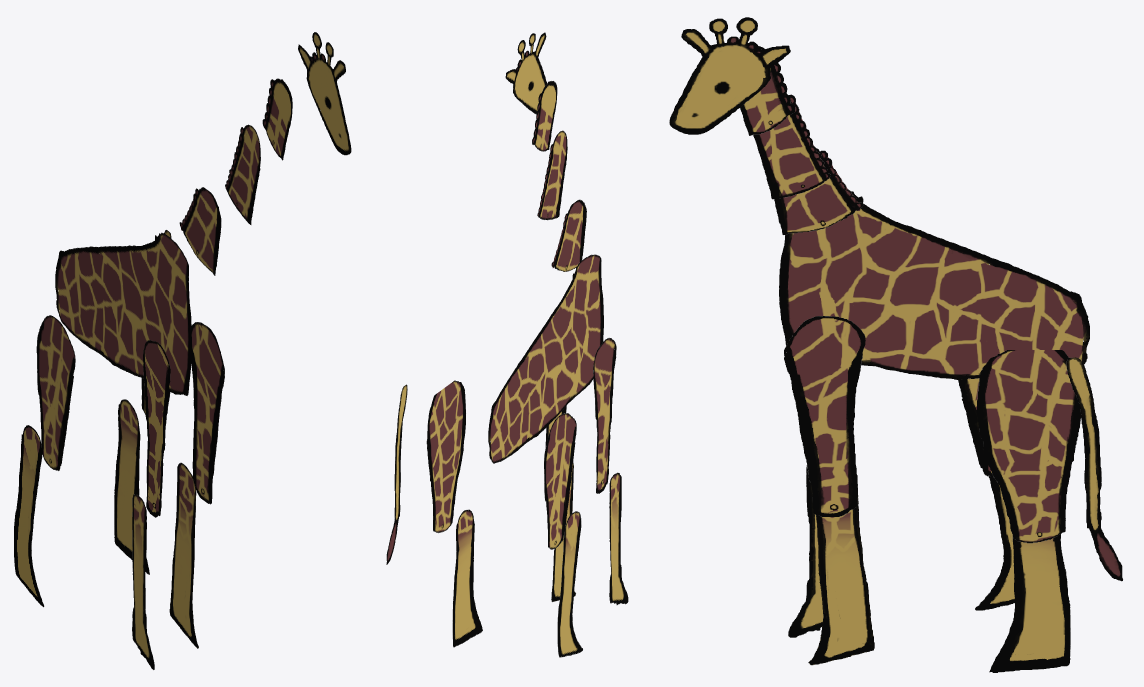
3 renders of one model, left to right at view 1: azimuth 30°, elevation 25°; view 2: azimuth 150°, elevation 25°; view 3: azimuth 270°, elevation 25°, orthographic. The views are drawn at different scales.
Visible parts, largest first — view 1: pPlane5, pPlane9, pPlane8, pPlane11, pPlane6, pPlane13, pPlane12, pPlane1, pPlane10, pPlane4, pPlane3, pPlane2; view 2: pPlane5, pPlane7, pPlane8, pPlane13, pPlane6, pPlane12, pPlane1, pPlane10, pPlane4, pPlane3, pPlane2, pPlane14 (+1 smaller); view 3: pPlane5, pPlane7, pPlane9, pPlane13, pPlane1, pPlane11, pPlane3, pPlane14, pPlane4, pPlane2, pPlane10, pPlane12 (+1 smaller).
Boxes of the visible parts, x1,y1,x2,y2 form: pPlane5: (55, 232, 191, 395); pPlane9: (191, 322, 224, 504); pPlane8: (36, 315, 75, 470); pPlane11: (169, 462, 198, 648); pPlane6: (143, 340, 170, 517); pPlane13: (114, 399, 149, 574); pPlane12: (14, 425, 44, 607); pPlane1: (298, 32, 351, 155); pPlane10: (132, 494, 154, 669); pPlane4: (179, 187, 221, 275); pPlane3: (225, 124, 260, 224); pPlane2: (262, 78, 292, 160); pPlane5: (488, 254, 603, 463); pPlane7: (426, 380, 465, 533); pPlane8: (544, 413, 576, 549); pPlane13: (452, 509, 482, 647); pPlane6: (593, 337, 616, 493); pPlane12: (557, 511, 582, 657); pPlane1: (505, 32, 547, 114); pPlane10: (609, 472, 628, 604); pPlane4: (551, 199, 586, 271); pPlane3: (537, 130, 567, 220); pPlane2: (532, 81, 557, 151); pPlane14: (386, 384, 407, 564); pPlane5: (779, 189, 1089, 379); pPlane7: (977, 350, 1080, 543); pPlane9: (784, 316, 865, 516); pPlane13: (989, 534, 1070, 672); pPlane1: (669, 17, 790, 134); pPlane11: (808, 474, 874, 665); pPlane3: (753, 93, 830, 199); pPlane14: (1066, 357, 1122, 581); pPlane4: (774, 148, 863, 234); pPlane2: (739, 46, 795, 135); pPlane10: (788, 465, 823, 637); pPlane12: (975, 476, 1015, 610).
Size of the model in its own units: 1.86 by 6.35 by 3.85.
Materials: 1 (1 with a texture image).
